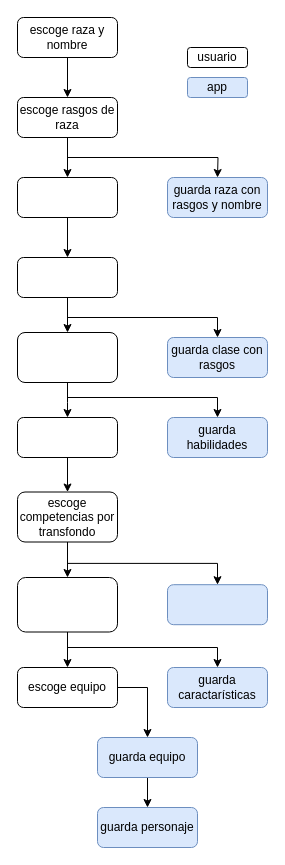
Some shapes in this 285 by 865 pixel diagram are drawn without their labels. The shapes that lost their labels are listed below. From the top down, each one's centre as x and y in pixels, then its label:
At [67,197]: "escoge clase".
At [67,277]: "escoge rasgos de clase".
At [67,357]: "escoge puntuación de habilidades".
At [67,437]: "escoge transfondo".
At [67,604]: "escribe características del personaje".
At [217,604]: "guarda transfondo".
